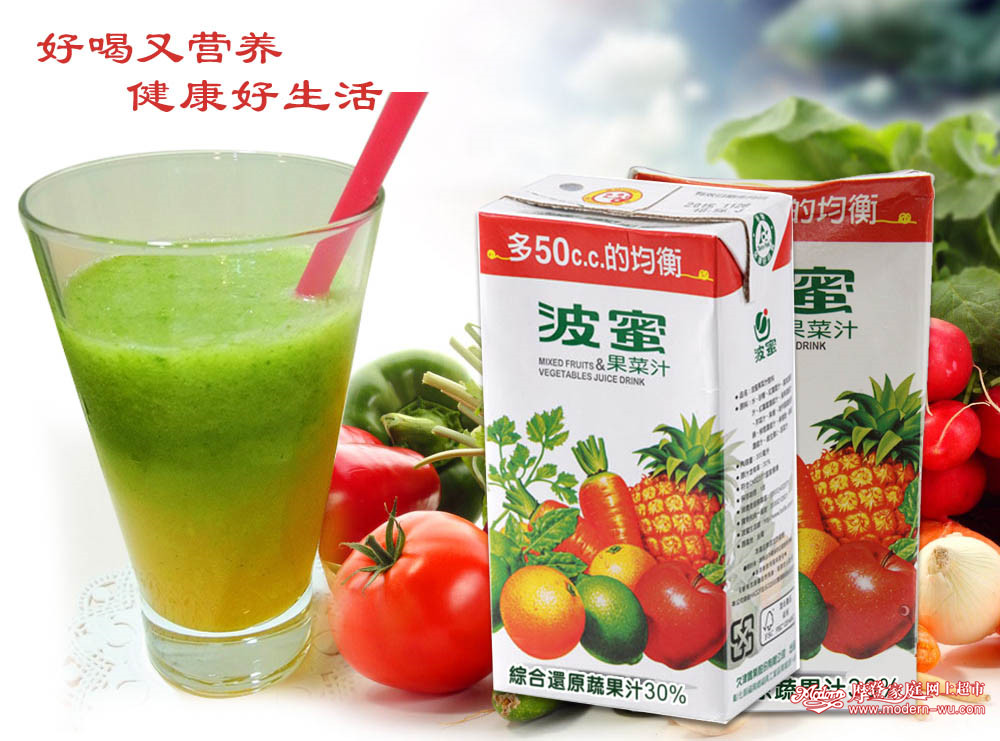vegetables juice: (473, 173, 804, 728)
